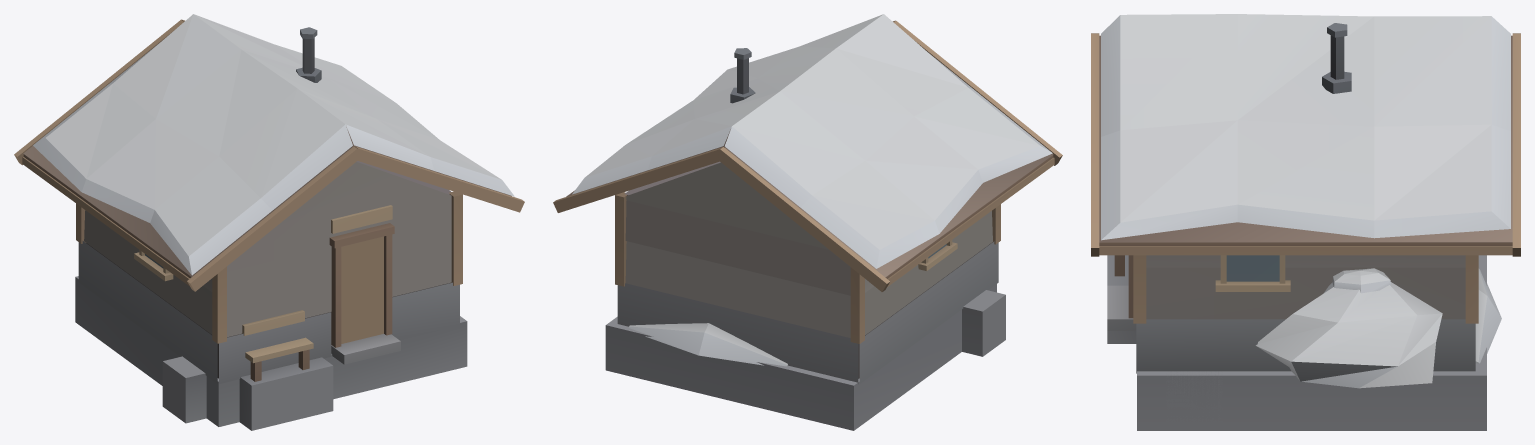
The model's file is refuge.lod1.glb.
3 views of the same model, side by side, from view 1: azimuth 30°, elevation 25°; view 2: azimuth 150°, elevation 25°; view 3: azimuth 270°, elevation 25° (orthographic). The views are drawn at different scales.
Bounding box in the file's own units: 8.02 × 6.73 × 7.32.
